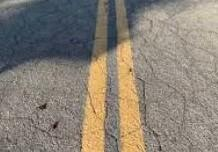alligator-crack: (120, 6, 216, 147), (1, 1, 118, 74), (3, 82, 118, 150)
